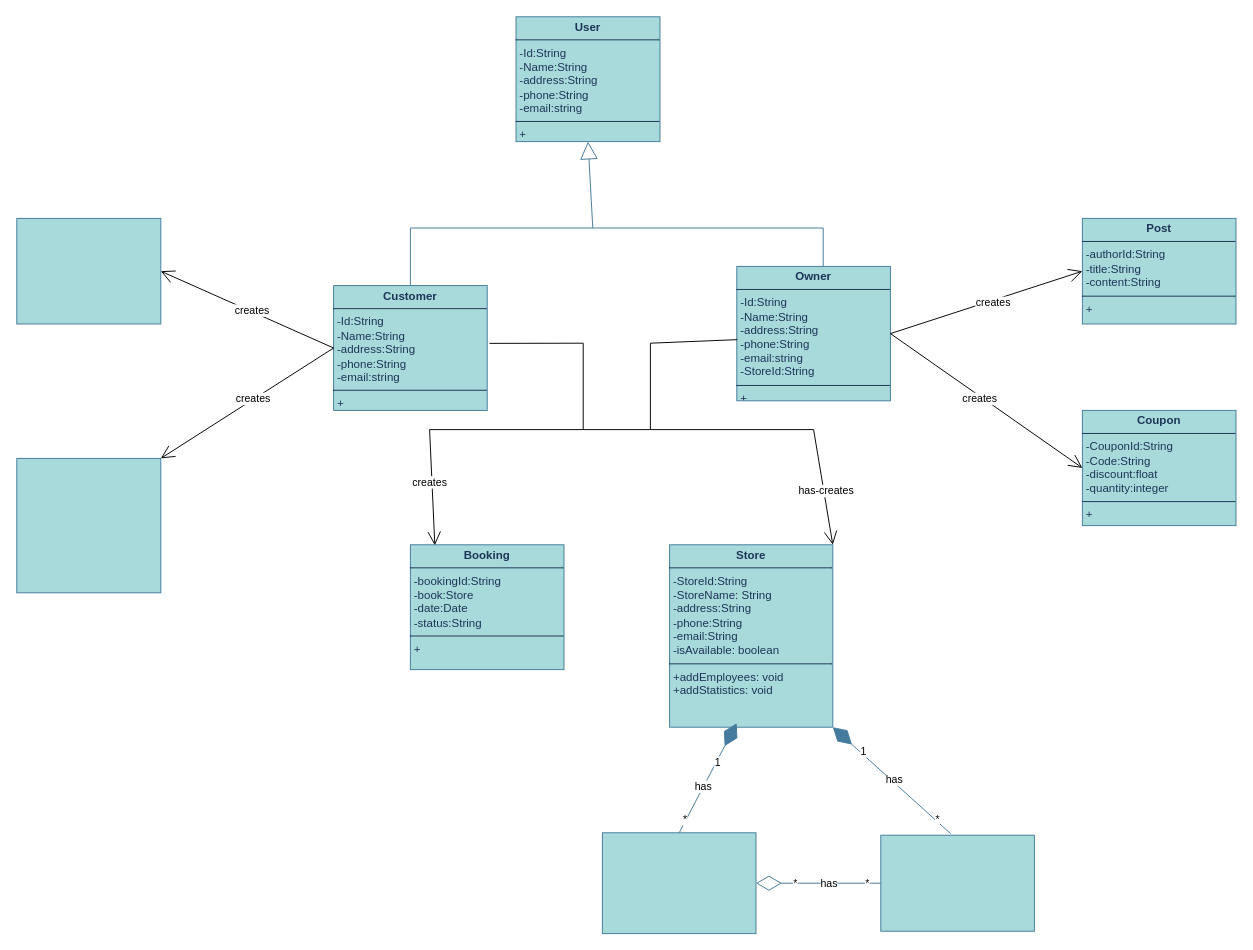
The diagram is 1253 pixels wide and 950 high, and some of its shapes have lost their labels. The box of each missing label's shape, as (x1, y1, x2, y2) in pixels:
Employee -Id:String -Name:String -Speciality:String +: (601, 832, 756, 934)
Message -senderId:String -receiverId:String -text:string +: (16, 217, 161, 324)
Review +rating: String -status: String -UserId:String -text:String +: (16, 457, 161, 593)
Statistics -metric:String -value:float -dateRange:String +: (880, 834, 1034, 931)
